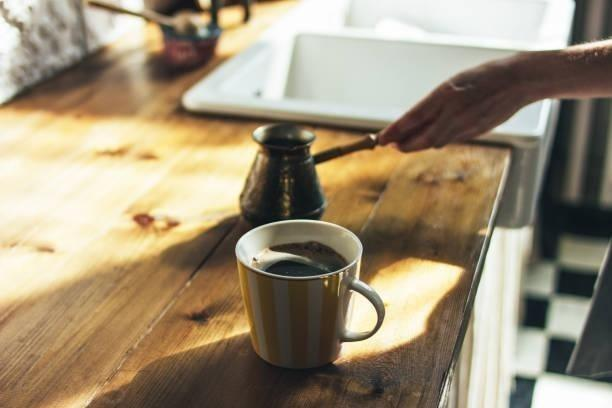cup-handle: (234, 217, 386, 370)
